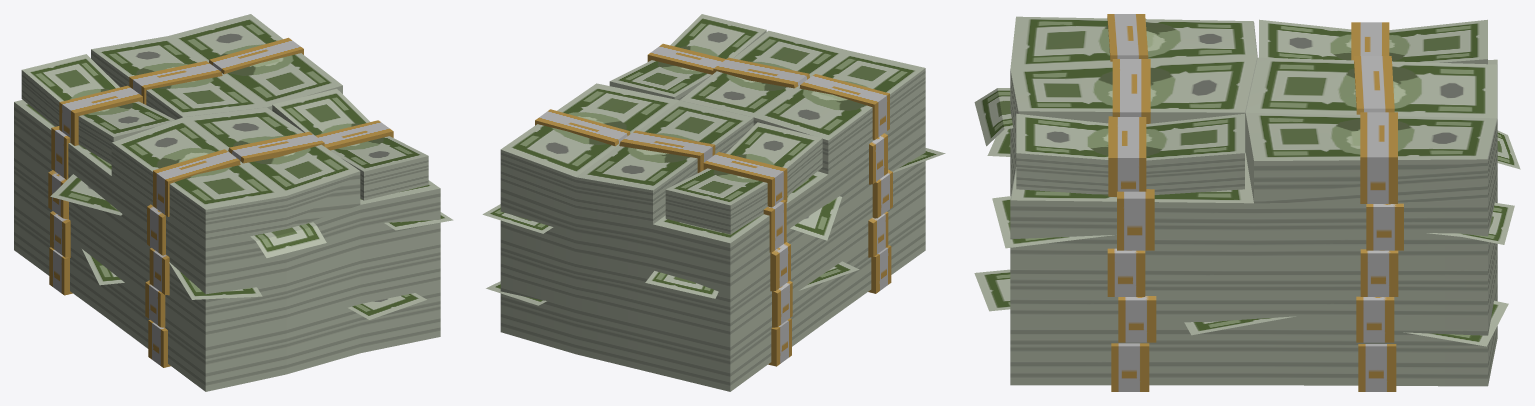
File: money.fbx
The picture shows the model from 3 angles, left to right: view 1: azimuth 30°, elevation 25°; view 2: azimuth 150°, elevation 25°; view 3: azimuth 270°, elevation 25°; orthographic projection. The views are drawn at different scales.
Parts seen in each view (by area): view 1: SM_Prop_Money_Stack_Clean_02__17_; view 2: SM_Prop_Money_Stack_Clean_02__17_; view 3: SM_Prop_Money_Stack_Clean_02__17_.
Part boxes in pixels (x1=…): SM_Prop_Money_Stack_Clean_02__17_: x1=14, y1=14, x2=453, y2=391; SM_Prop_Money_Stack_Clean_02__17_: x1=482, y1=14, x2=945, y2=391; SM_Prop_Money_Stack_Clean_02__17_: x1=974, y1=14, x2=1520, y2=391.
Size of the model in its own units: 48.31 by 31.2 by 65.29.
1 material, 1 textured.
